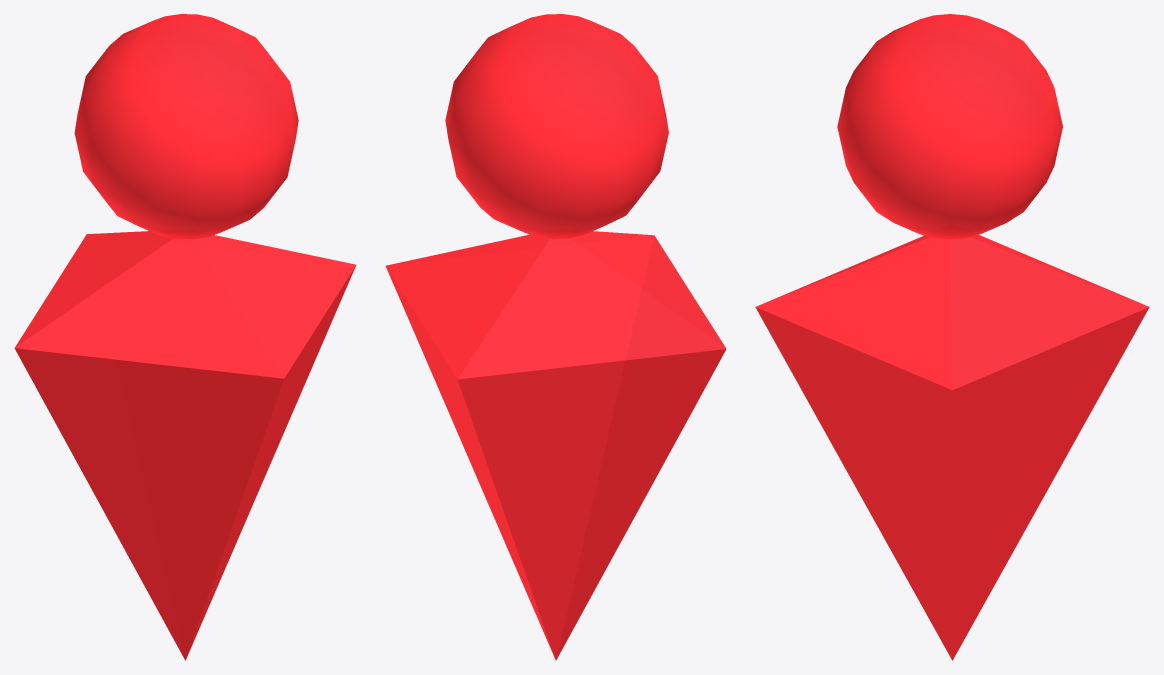
File: NavPointerMother.fbx
3 views of the same model, side by side, from view 1: azimuth 30°, elevation 25°; view 2: azimuth 150°, elevation 25°; view 3: azimuth 270°, elevation 25° (orthographic).
Visible parts, largest first — view 1: Circle; view 2: Circle; view 3: Circle.
Part boxes in pixels (box(x1,y1,x2,y2)): Circle: box(14, 14, 356, 660); Circle: box(385, 14, 726, 660); Circle: box(755, 14, 1149, 660).
Size of the model in its own units: 1507 by 2684 by 1507.
